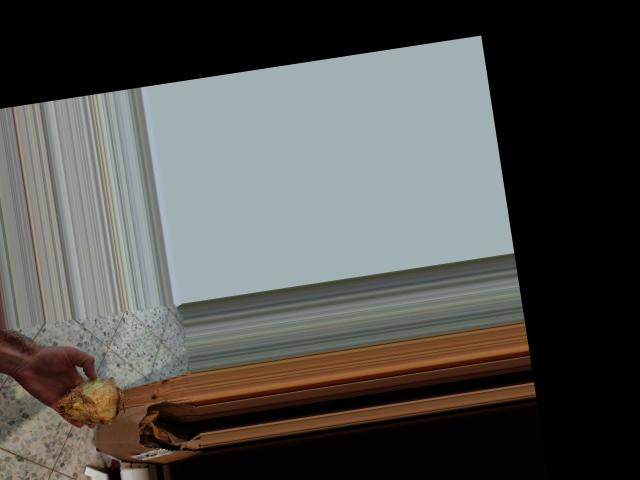onion: (49, 372, 129, 432)
